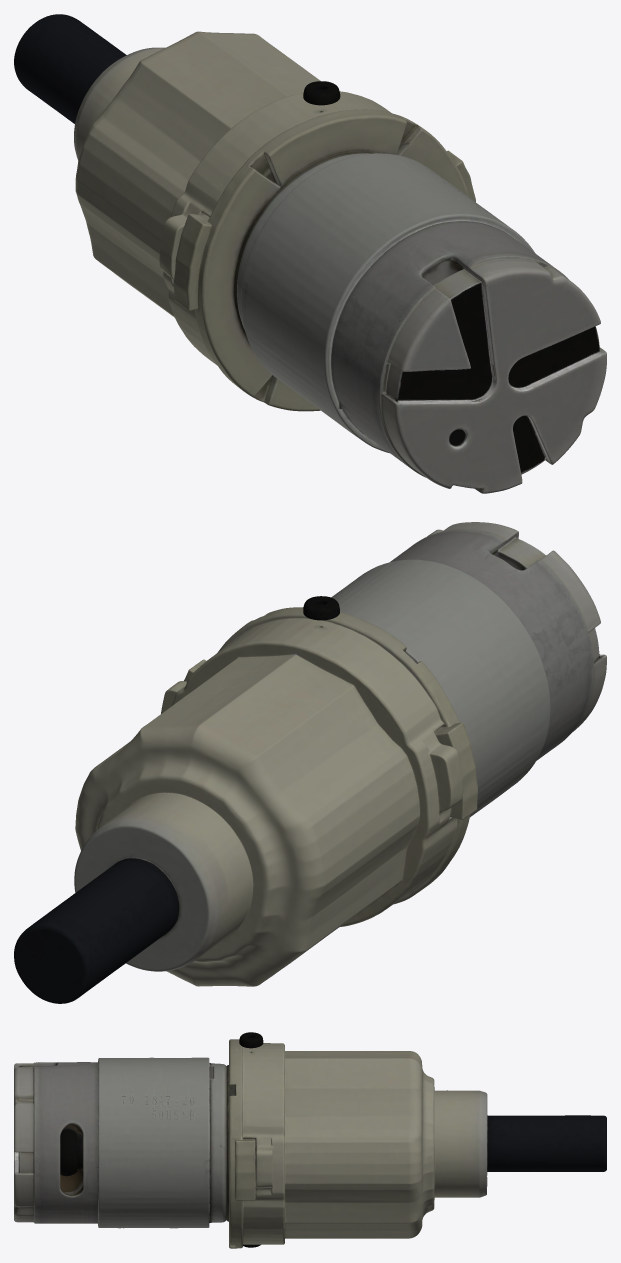
The model's file is gearbox_motor_02.glb.
3 views of the same model, one above another, from view 1: azimuth 30°, elevation 25°; view 2: azimuth 150°, elevation 25°; view 3: azimuth 270°, elevation 25° (orthographic). The views are drawn at different scales.
Parts seen in each view (by area): view 1: tripo_node_1a722b5d-bf5b-4571-8381-29bd2f383983; view 2: tripo_node_1a722b5d-bf5b-4571-8381-29bd2f383983; view 3: tripo_node_1a722b5d-bf5b-4571-8381-29bd2f383983.
Boxes of the visible parts, x1,y1,x2,y2 form: tripo_node_1a722b5d-bf5b-4571-8381-29bd2f383983: [14, 14, 606, 493]; tripo_node_1a722b5d-bf5b-4571-8381-29bd2f383983: [14, 522, 606, 1003]; tripo_node_1a722b5d-bf5b-4571-8381-29bd2f383983: [14, 1032, 606, 1248].
Size of the model in its own units: 0.3731 by 0.3853 by 1.
Materials: 1 (1 with a texture image).
